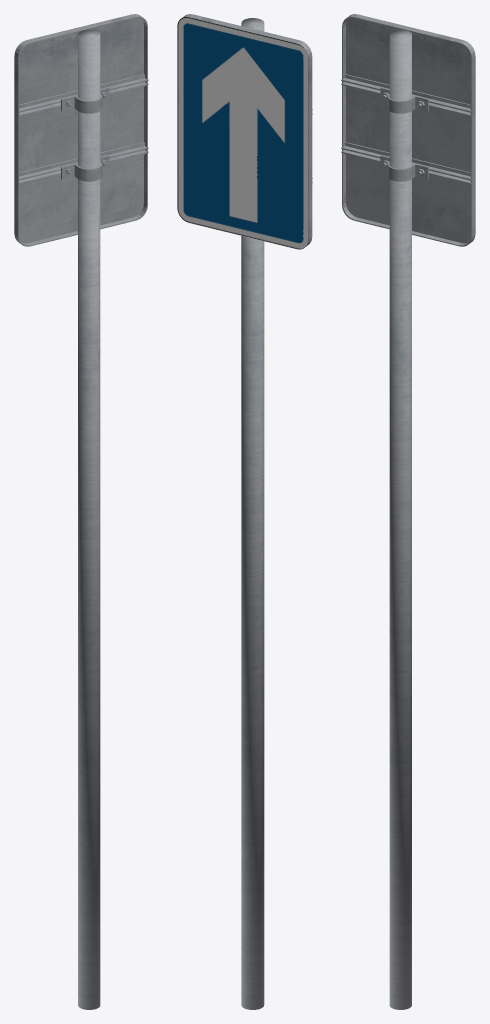
The model's file is One-way_traffic.fbx.
3 views of the same model, side by side, from view 1: azimuth 30°, elevation 25°; view 2: azimuth 150°, elevation 25°; view 3: azimuth 330°, elevation 25° (orthographic).
Parts seen in each view (by area): view 1: One-way traffic; view 2: One-way traffic; view 3: One-way traffic.
Boxes of the visible parts, bbox=[...] form: One-way traffic: bbox=[14, 14, 148, 1009]; One-way traffic: bbox=[177, 14, 312, 1009]; One-way traffic: bbox=[341, 14, 475, 1009].
Size of the model in its own units: 0.0875 by 0.4 by 2.86.
